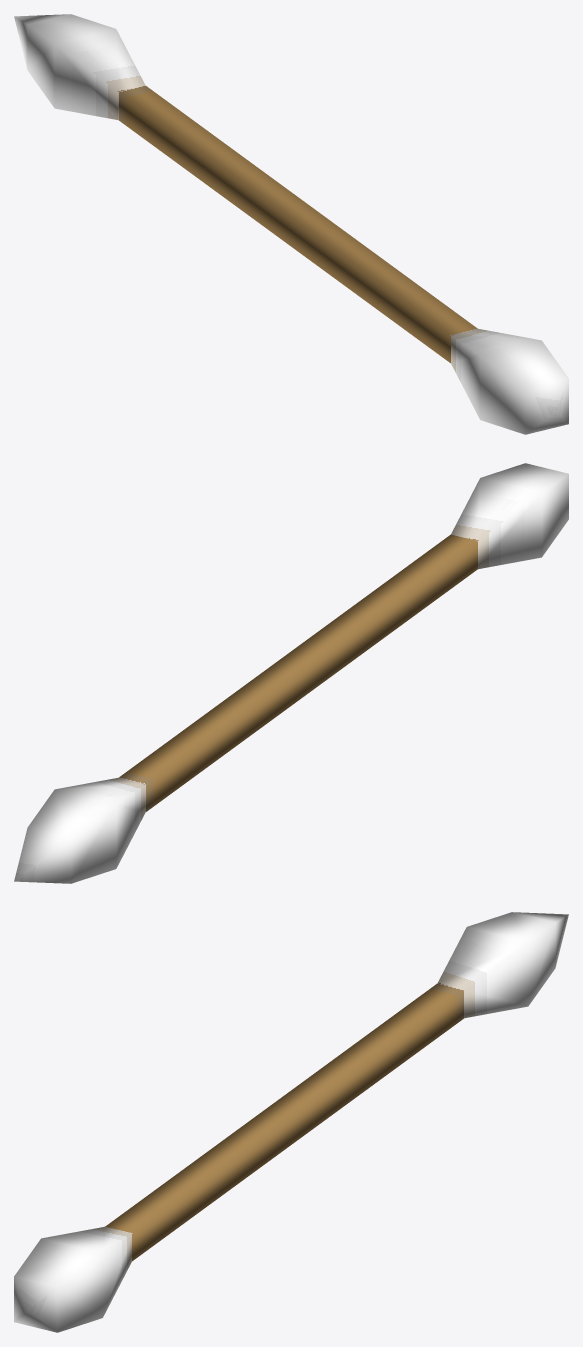
The model's file is mianqian.fbx.
The picture shows the model from 3 angles, top to bottom: view 1: azimuth 30°, elevation 25°; view 2: azimuth 150°, elevation 25°; view 3: azimuth 330°, elevation 25°; orthographic projection.
Visible parts, largest first — view 1: mianqian; view 2: mianqian; view 3: mianqian.
Part boxes in pixels (left/top/right/bottom): mianqian: left=14, top=14, right=568, bottom=434; mianqian: left=14, top=463, right=568, bottom=883; mianqian: left=14, top=912, right=568, bottom=1332.
Bounding box in the file's own units: 8.57 × 8.57 × 130.
